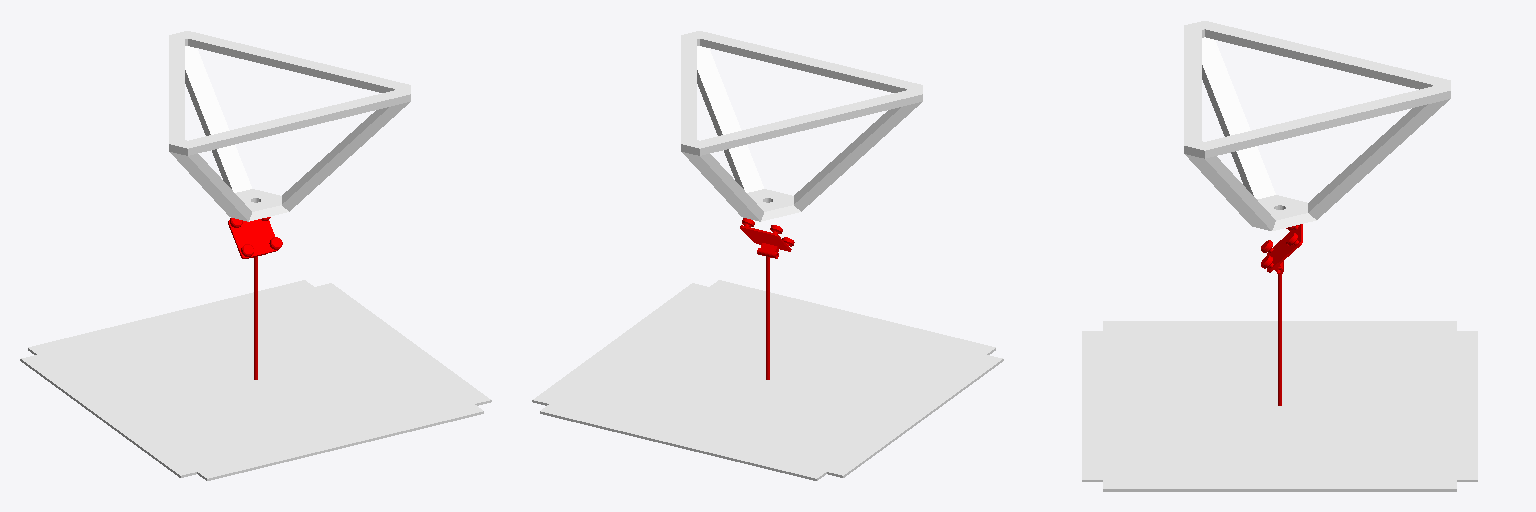
robot.urdf — deltarobot:
<?xml version="1.0"?>
<robot name="deltarobot">

    <!-- RAILS -->
    <link name="rails_link">
        <visual>
            <origin xyz="0 0 0"/>
            <geometry>
                <mesh filename="rails.stl"/>
            </geometry>
            <material name="white">
              <color rgba="1 1 1 1"/>
            </material>
        </visual>
        <collision>
            <origin xyz="0 0 0"/>
            <geometry>
                <mesh filename="rails.stl"/>
            </geometry>
        </collision>
    </link>
    <!-- RAILS END-->

    <!-- ************************************************************************ -->

    <!-- CARRIAGE 1 -->
    <link name="carriage_1_link">
        <visual>
            <origin xyz="0 0 0"/>
            <geometry>
                <mesh filename="carriage.stl"/>
            </geometry>
            <material name="red">
              <color rgba="1 0 0 1"/>
            </material>
        </visual>
    </link>

    <joint name="carriage_1_joint" type="prismatic">
        <origin xyz="0 0 0" rpy="0 0 0"/>
        <parent link="rails_link"/>
        <child link="carriage_1_link"/>
        <axis xyz="0 1 1"/>
        <limit lower="0" upper="0" velocity="0" effort="0"/> 
    </joint>
    <!-- CARRIAGE 1 END-->


    <!-- ROD 1A -->
    <link name="rod_1a_link_virtual">
    </link>

    <link name="rod_1a_link">
        <visual>
            <origin xyz="0 0 0"/>
            <geometry>
                <mesh filename="link.stl"/>
            </geometry>
            <material name="red">
              <color rgba="1 0 0 1"/>
            </material>
        </visual>
        <collision>
            <origin xyz="0 0 0"/>
            <geometry>
                <mesh filename="link.stl"/>
            </geometry>
        </collision>
    </link>

    <joint name="rod_1a_x_joint" type="revolute">
        <origin xyz="0 0 0" rpy="0 0 0"/>
        <parent link="carriage_1_link"/>
        <child link="rod_1a_link_virtual"/>
        <axis xyz="1 0 0"/>
        <limit lower="0" upper="0" velocity="0" effort="0"/> 
    </joint>

    <joint name="rod_1a_y_joint" type="revolute">
        <origin xyz="0 0 0" rpy="0 0 0"/>
        <parent link="rod_1a_link_virtual"/>
        <child link="rod_1a_link"/>
        <axis xyz="0 1 0"/>
        <limit lower="0" upper="0" velocity="0" effort="0"/> 
    </joint>
    <!-- ROD 1A END-->

    <!-- ROD 1 END EFFECTOR -->
    <link name="rod_1_end_effector_link">
    </link>

    <joint name="rod_1_end_effector_joint" type="fixed">
        <origin xyz="0 0 -400"/>
        <parent link="rod_1a_link"/>
        <child link="rod_1_end_effector_link"/>
    </joint>
    <!-- ROD 1 END EFFECTOR END -->

</robot>

--- What the picture shows (computed from the rendered views, not written in the file) ---
Views: 3 orthographic renders of the robot side by side, from view 1: azimuth 30°, elevation 25°; view 2: azimuth 150°, elevation 25°; view 3: azimuth 270°, elevation 25°.
Model deltarobot with 5 links and 4 joints (2 revolute, 1 prismatic, 1 fixed), rooted at rails_link, posed every joint at zero.
Visible links, largest first — view 1: rails_link, carriage_1_link; view 2: rails_link, carriage_1_link; view 3: rails_link, carriage_1_link, rod_1a_link.
Link boxes in pixels (x1,y1,x2,y2): rails_link: [20, 31, 491, 480]; carriage_1_link: [228, 217, 282, 258]; rails_link: [532, 31, 1003, 480]; carriage_1_link: [740, 218, 794, 258]; rails_link: [1082, 21, 1477, 491]; carriage_1_link: [1261, 224, 1302, 274]; rod_1a_link: [1278, 269, 1281, 405].
Bounding box of the posed robot: 664 × 664 × 740 m (x, y, z).
3 mesh visuals loaded from 3 distinct referenced files (3 binary STL).